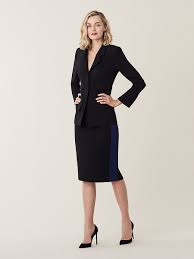F_tailored skirt: (70, 107, 131, 186)
